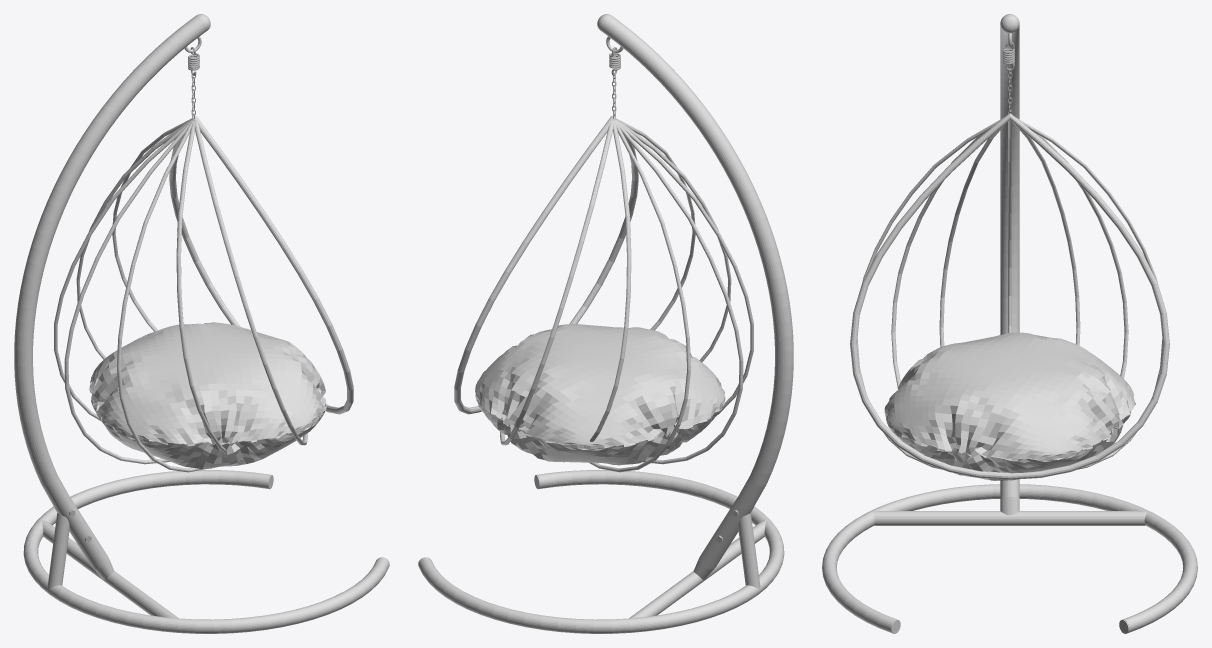
The model's file is sunflower.glb.
The picture shows the model from 3 angles, left to right: view 1: azimuth 30°, elevation 25°; view 2: azimuth 150°, elevation 25°; view 3: azimuth 270°, elevation 25°; orthographic projection. The views are drawn at different scales.
Parts seen in each view (by area): view 1: Cylinder, Torus.023, OSNOVANIE, Сфера.002, Сфера.013, Сфера.011, Сфера.010, Сфера.009, OSN-DELITEL, Сфера.001, Torus.007, Torus.009 (+2 smaller); view 2: Cylinder, Torus.023, OSNOVANIE, Сфера.002, Сфера.013, Сфера.001, Сфера.014, OSN-DELITEL, Сфера.012, Torus.007, Сфера.010, Torus.009 (+2 smaller); view 3: Cylinder, OSNOVANIE, Сфера.002, Torus.023, OSN-DELITEL, Сфера.010, Сфера.011, Сфера.014, Сфера.009, Сфера.001, Сфера.012, Сфера.013 (+1 smaller).
Boxes of the visible parts, left/top/right/bottom form: Cylinder: left=89, top=322, right=326, bottom=469; Torus.023: left=14, top=14, right=210, bottom=509; OSNOVANIE: left=23, top=470, right=389, bottom=633; Сфера.002: left=169, top=116, right=353, bottom=414; Сфера.013: left=64, top=120, right=192, bottom=464; Сфера.011: left=194, top=121, right=307, bottom=445; Сфера.010: left=117, top=120, right=205, bottom=472; Сфера.009: left=176, top=121, right=242, bottom=461; OSN-DELITEL: left=41, top=520, right=178, bottom=618; Сфера.001: left=54, top=119, right=191, bottom=421; Torus.007: left=54, top=499, right=114, bottom=579; Torus.009: left=47, top=513, right=69, bottom=589; Cylinder: left=475, top=323, right=725, bottom=465; Torus.023: left=597, top=14, right=793, bottom=509; OSNOVANIE: left=418, top=470, right=784, bottom=633; Сфера.002: left=454, top=116, right=638, bottom=414; Сфера.013: left=615, top=120, right=743, bottom=464; Сфера.001: left=589, top=120, right=690, bottom=472; Сфера.014: left=500, top=121, right=613, bottom=445; OSN-DELITEL: left=629, top=520, right=766, bottom=618; Сфера.012: left=563, top=120, right=631, bottom=462; Torus.007: left=693, top=499, right=753, bottom=579; Сфера.010: left=616, top=119, right=753, bottom=414; Torus.009: left=738, top=513, right=760, bottom=589; Cylinder: left=884, top=332, right=1135, bottom=480; OSNOVANIE: left=822, top=484, right=1197, bottom=633; Сфера.002: left=850, top=113, right=1169, bottom=479; Torus.023: left=1000, top=14, right=1019, bottom=334; OSN-DELITEL: left=872, top=511, right=1147, bottom=525; Сфера.010: left=939, top=122, right=1007, bottom=347; Сфера.011: left=857, top=117, right=1003, bottom=469; Сфера.014: left=1016, top=117, right=1162, bottom=469; Сфера.009: left=891, top=133, right=984, bottom=387; Сфера.001: left=1012, top=122, right=1080, bottom=345; Сфера.012: left=1035, top=133, right=1128, bottom=378; Сфера.013: left=1008, top=120, right=1011, bottom=332.
Size of the model in its own units: 1.08 by 1.78 by 1.09.
Materials: 2 (1 with a texture image).
